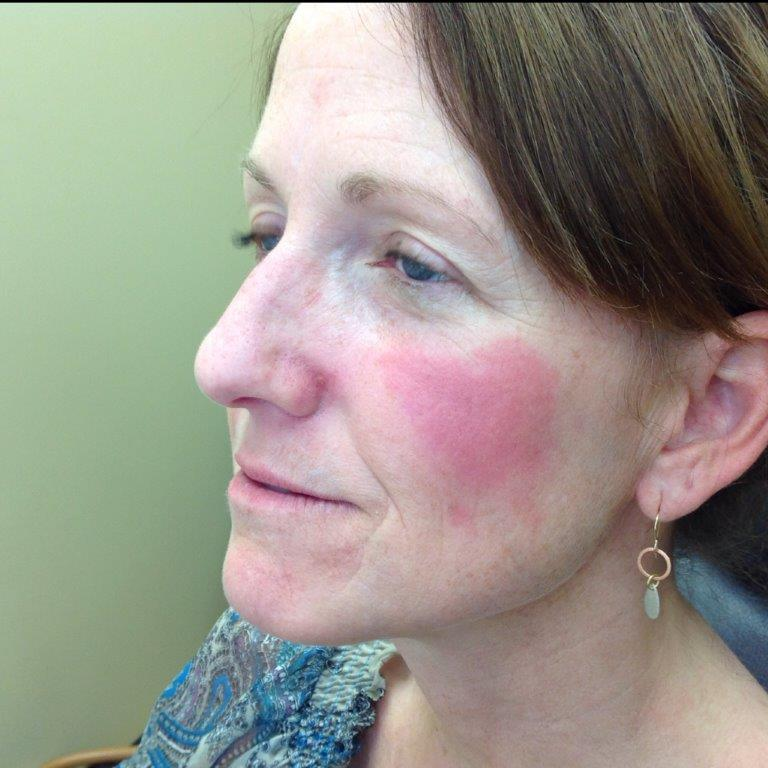Actinic Keratosis: (377, 331, 581, 534)
